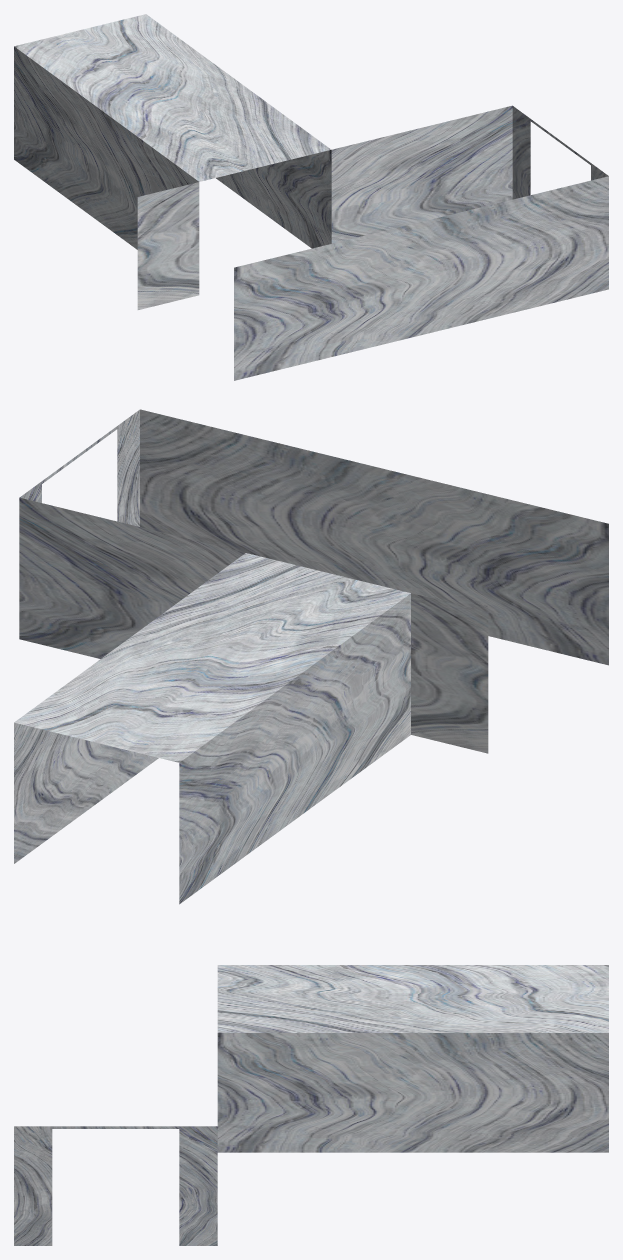
File: WallFix.fbx
3 views of the same model, one above another, from view 1: azimuth 30°, elevation 25°; view 2: azimuth 150°, elevation 25°; view 3: azimuth 270°, elevation 25° (orthographic). The views are drawn at different scales.
Visible parts, largest first — view 1: Cube.008; view 2: Cube.008; view 3: Cube.008.
Boxes of the visible parts, x1,y1,x2,y2 form: Cube.008: (14,14,608,380); Cube.008: (14,409,608,904); Cube.008: (14,965,608,1245).
Size of the model in its own units: 2648 by 765 by 3447.
